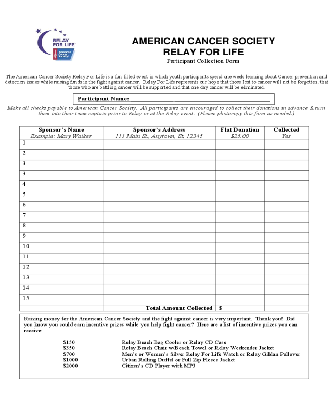textbox: (100, 218, 218, 235), (99, 271, 218, 287), (100, 281, 219, 297), (100, 167, 218, 183), (100, 178, 218, 194), (100, 209, 218, 225), (101, 147, 218, 163), (100, 250, 217, 266), (100, 261, 217, 277), (99, 241, 218, 256), (100, 158, 218, 173), (100, 199, 218, 214), (100, 230, 218, 245), (100, 292, 218, 307), (100, 188, 217, 203), (100, 137, 218, 151), (17, 168, 106, 184), (15, 292, 105, 307), (17, 158, 106, 173), (17, 199, 106, 214), (16, 230, 105, 245), (16, 282, 105, 297), (18, 148, 106, 163), (17, 220, 105, 235), (17, 240, 105, 255), (17, 251, 105, 266), (17, 272, 105, 287), (18, 137, 105, 152), (18, 210, 105, 225), (16, 179, 106, 193), (16, 262, 106, 276), (17, 189, 106, 203), (212, 239, 268, 256), (212, 188, 267, 204), (212, 260, 267, 276), (212, 136, 266, 152), (213, 178, 267, 194), (213, 219, 267, 235), (261, 239, 311, 256), (213, 157, 266, 173), (213, 167, 266, 183), (213, 199, 266, 215), (213, 209, 266, 225), (260, 261, 313, 277), (212, 230, 268, 245), (262, 250, 311, 267), (262, 270, 311, 287), (262, 146, 310, 163), (213, 147, 267, 162), (212, 251, 266, 266), (213, 272, 267, 287), (213, 292, 267, 307), (262, 167, 312, 183), (261, 229, 311, 245), (262, 188, 311, 204), (262, 219, 310, 235), (213, 281, 264, 296), (263, 136, 310, 152), (261, 158, 311, 173), (262, 210, 311, 225), (262, 282, 311, 297), (262, 292, 311, 307), (262, 178, 310, 193), (262, 199, 310, 214), (214, 303, 266, 313), (263, 302, 310, 313)
textline: (129, 94, 271, 103)
